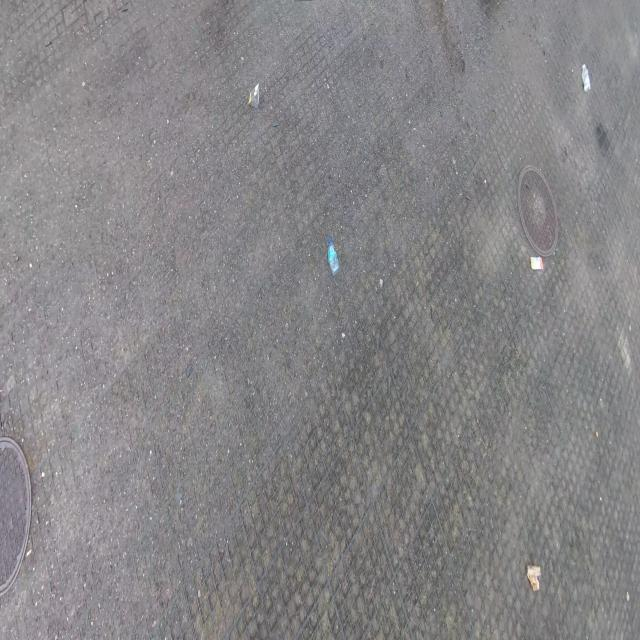rubbish: (328, 240, 339, 277), (526, 565, 541, 591), (248, 85, 259, 109), (582, 64, 591, 92), (531, 257, 545, 272)
